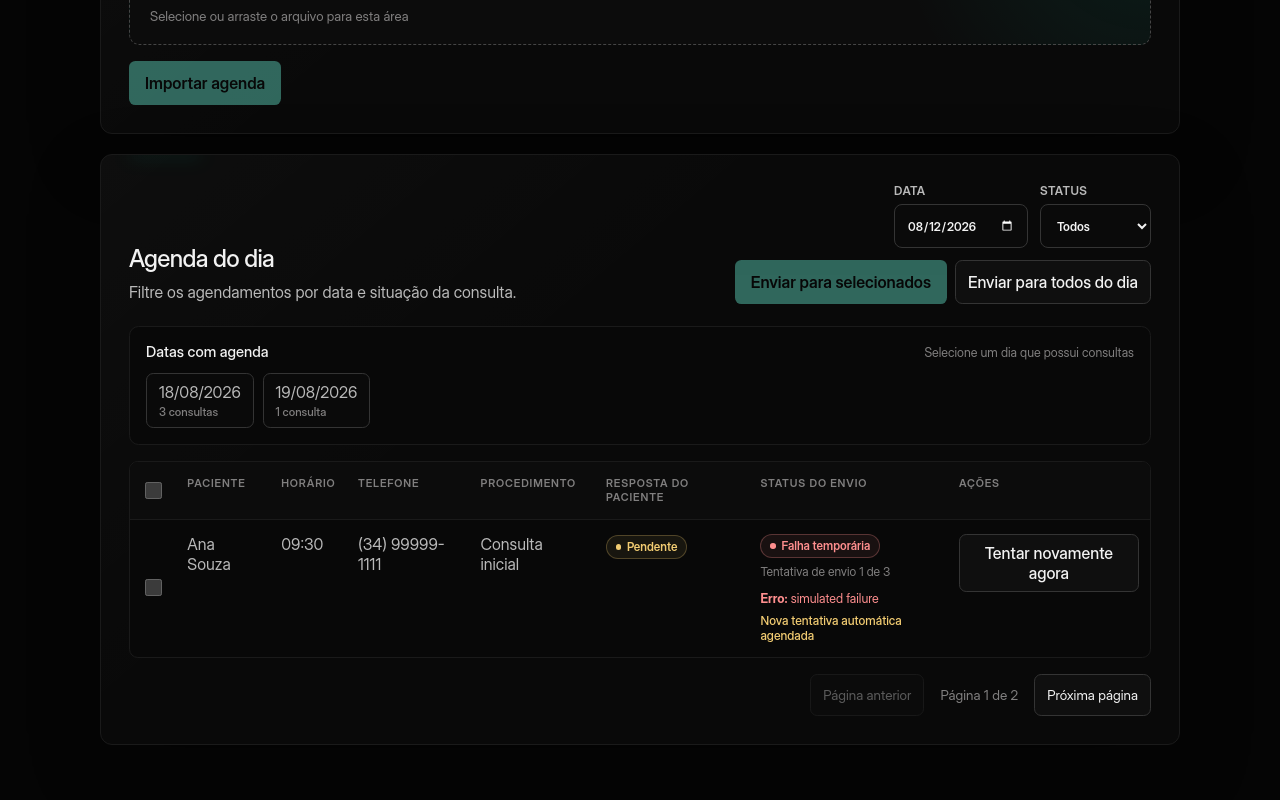
shows dates that have appointments and navigates from their shortcuts
(page scrolled)
Step 1. Click the button named "18/08/2026 — 3 consultas" → (200, 401), box [146,373,254,428]
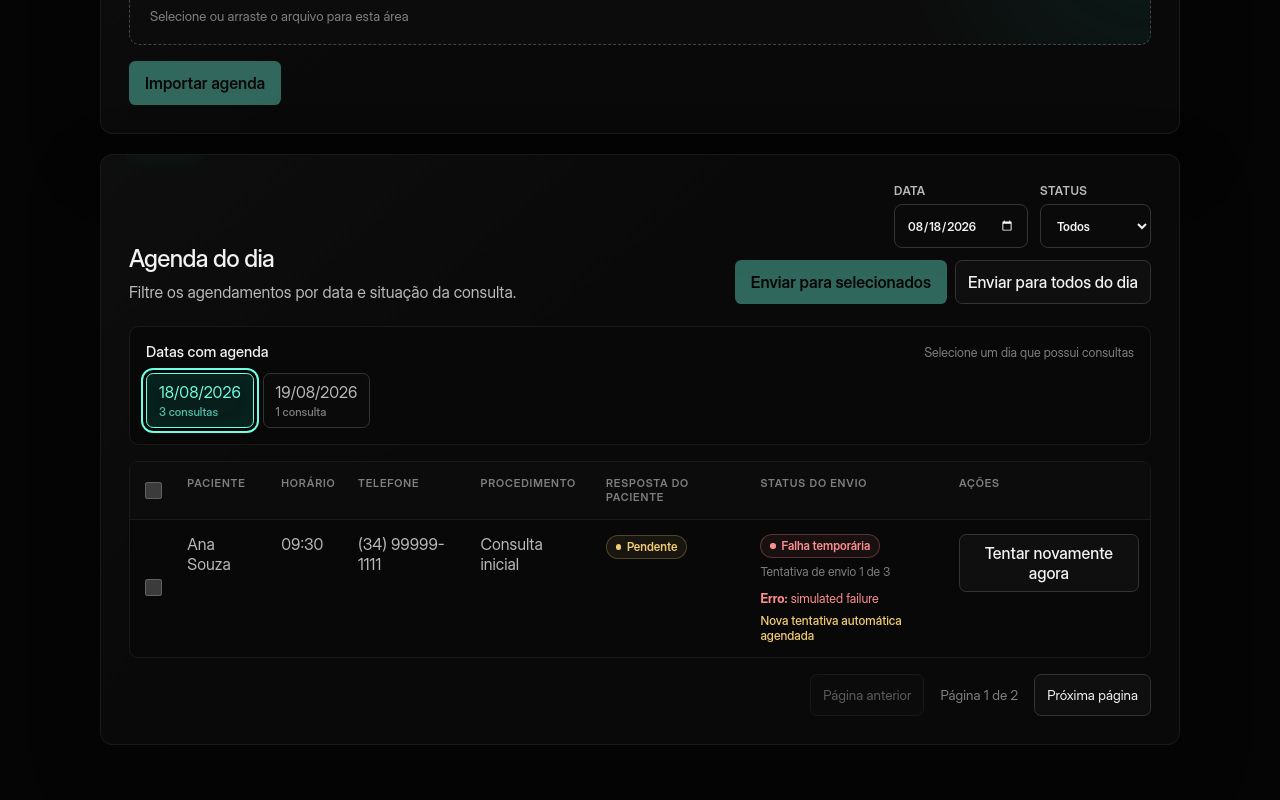
Check: the date field labelled "Data" holds "2026-08-18", box [894,204,1028,248]
